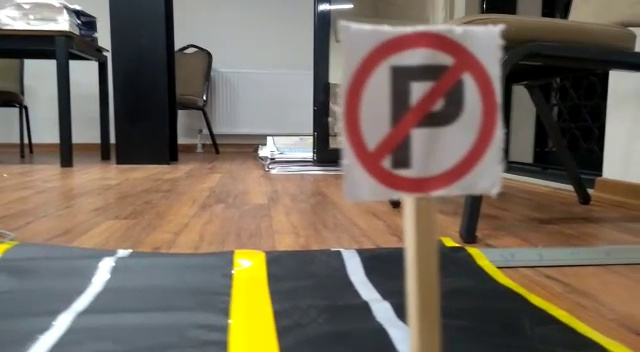park_yapilmaz: (340, 24, 502, 194)
